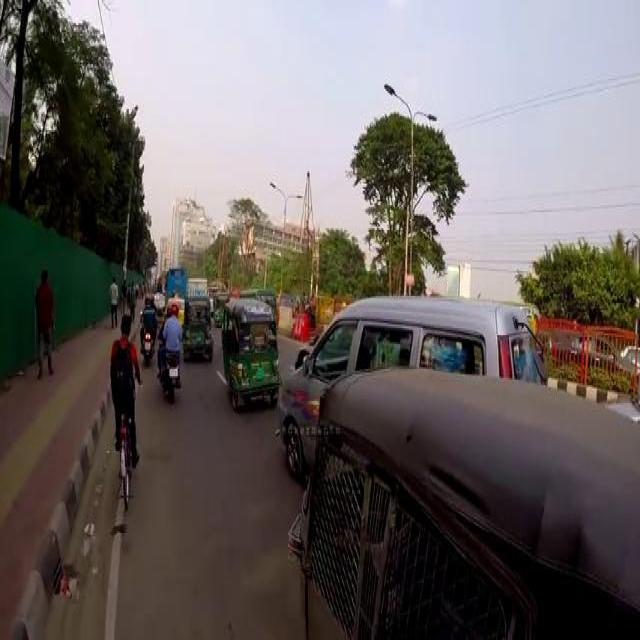10: (158, 335, 182, 401), (138, 307, 154, 362)
11: (186, 275, 207, 294)
16: (164, 292, 184, 319)
17: (287, 367, 639, 636), (220, 292, 282, 408), (180, 292, 210, 355)
19: (241, 287, 279, 321)
5: (542, 328, 636, 376)
9: (276, 292, 542, 466)
Motorcycle: (116, 397, 132, 507)
Truck: (164, 267, 186, 295)
